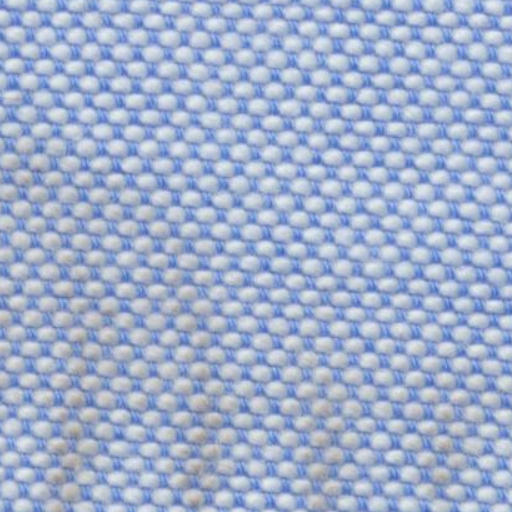WuZi: (4, 139, 486, 499)
